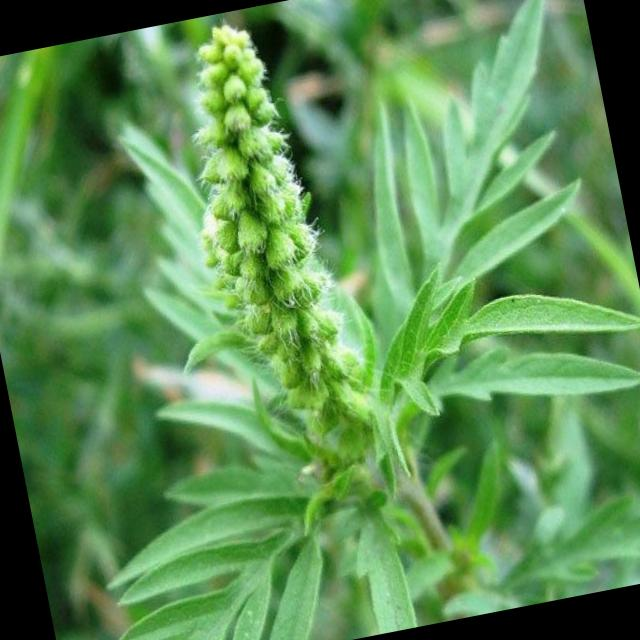ambrosia: (153, 7, 398, 492)
